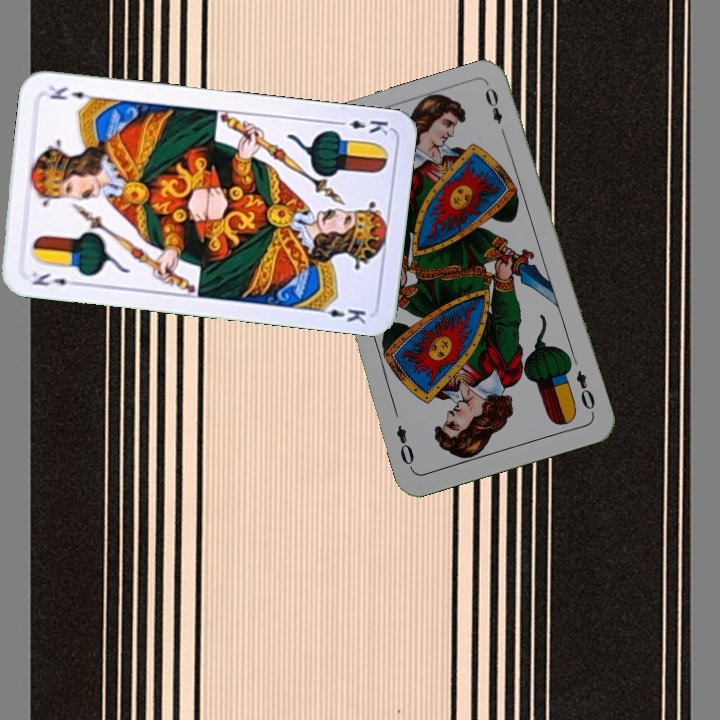EK: (332, 116, 391, 138), (28, 268, 82, 289)
EO: (572, 366, 598, 413)
